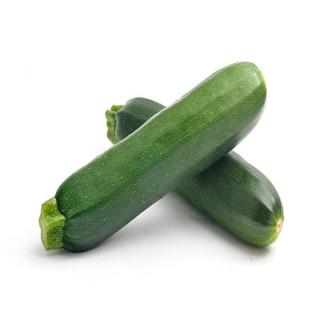Zucchini: (40, 63, 266, 252), (176, 152, 283, 245)
